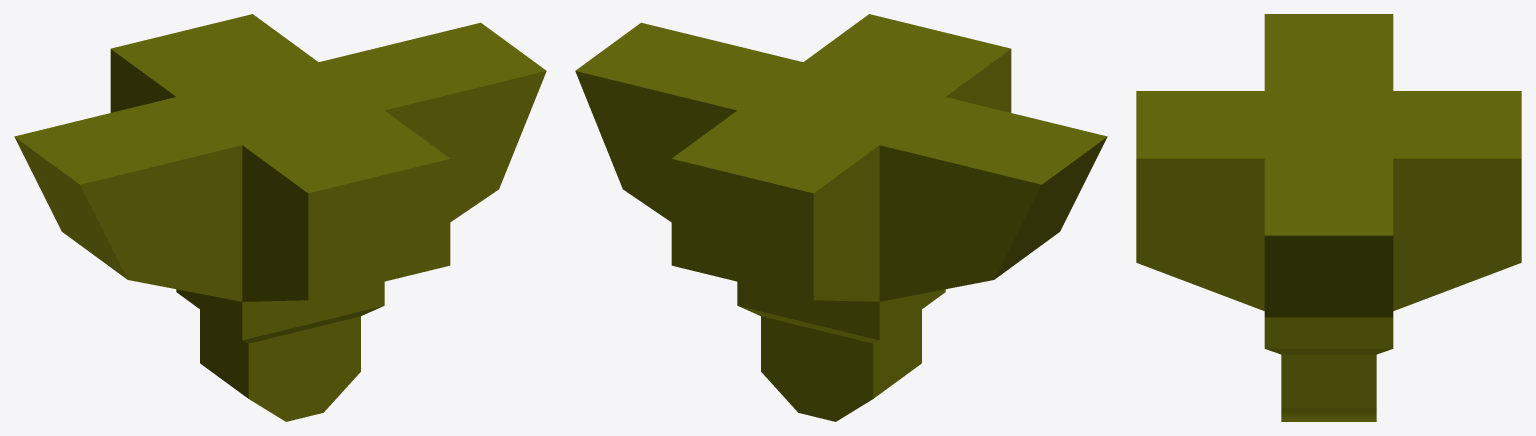
The model's file is SM_Crane-LifterHead_E.fbx.
3 views of the same model, side by side, from view 1: azimuth 30°, elevation 25°; view 2: azimuth 150°, elevation 25°; view 3: azimuth 270°, elevation 25° (orthographic). The views are drawn at different scales.
Visible parts, largest first — view 1: SM_Crane-LifterHead_E; view 2: SM_Crane-LifterHead_E; view 3: SM_Crane-LifterHead_E.
Part boxes in pixels (box(x1,y1,x2,y2)): SM_Crane-LifterHead_E: box(14, 14, 546, 421); SM_Crane-LifterHead_E: box(575, 14, 1107, 421); SM_Crane-LifterHead_E: box(1136, 14, 1521, 421).
Size of the model in its own units: 405 by 297 by 245.
